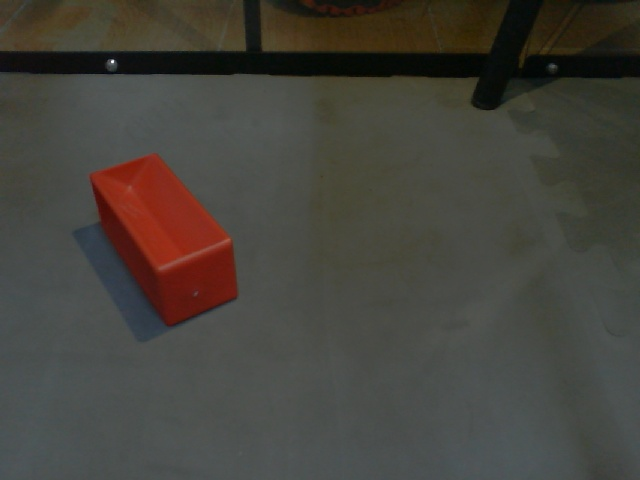RedSample: (88, 152, 240, 328)
